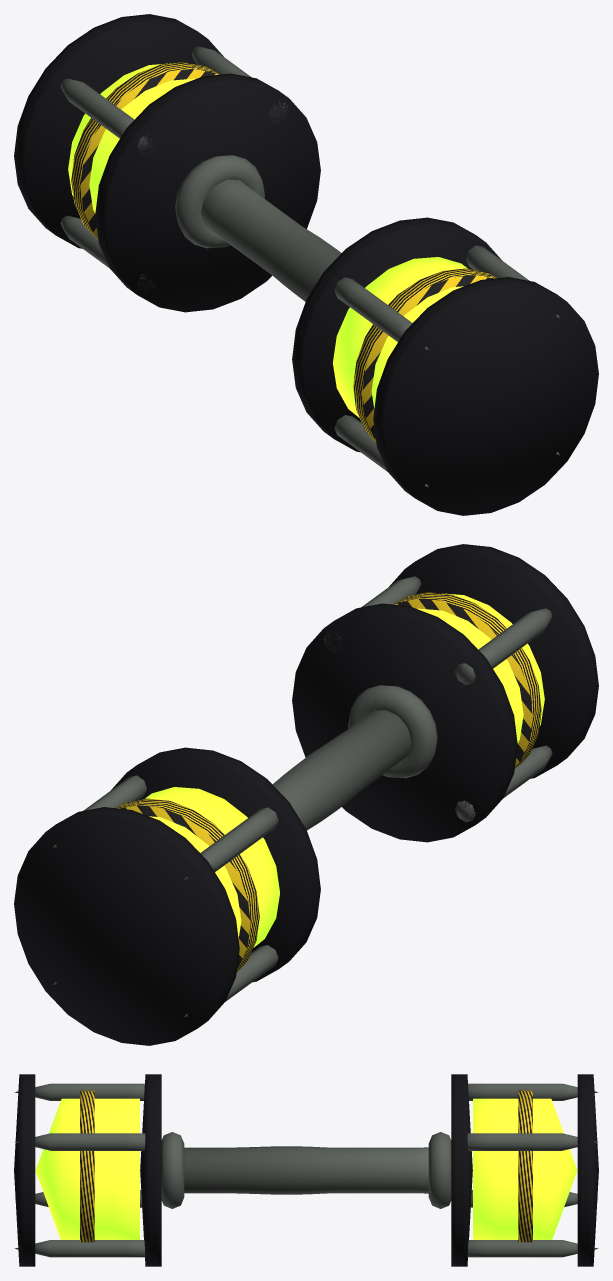
The model's file is ToxicDumbbell.glb.
The picture shows the model from 3 angles, top to bottom: view 1: azimuth 30°, elevation 25°; view 2: azimuth 150°, elevation 25°; view 3: azimuth 270°, elevation 25°; orthographic projection. The views are drawn at different scales.
Parts seen in each view (by area): view 1: ToxicDumbbell, ToxicDumbbell_Glow; view 2: ToxicDumbbell, ToxicDumbbell_Glow; view 3: ToxicDumbbell, ToxicDumbbell_Glow.
Boxes of the visible parts, x1,y1,x2,y2 form: ToxicDumbbell: (14, 14, 598, 515); ToxicDumbbell_Glow: (68, 63, 467, 417); ToxicDumbbell: (14, 544, 598, 1045); ToxicDumbbell_Glow: (145, 593, 544, 947); ToxicDumbbell: (14, 1074, 598, 1266); ToxicDumbbell_Glow: (35, 1098, 577, 1239).
Size of the model in its own units: 0.72 by 0.72 by 2.18.
2 materials, 1 textured.
